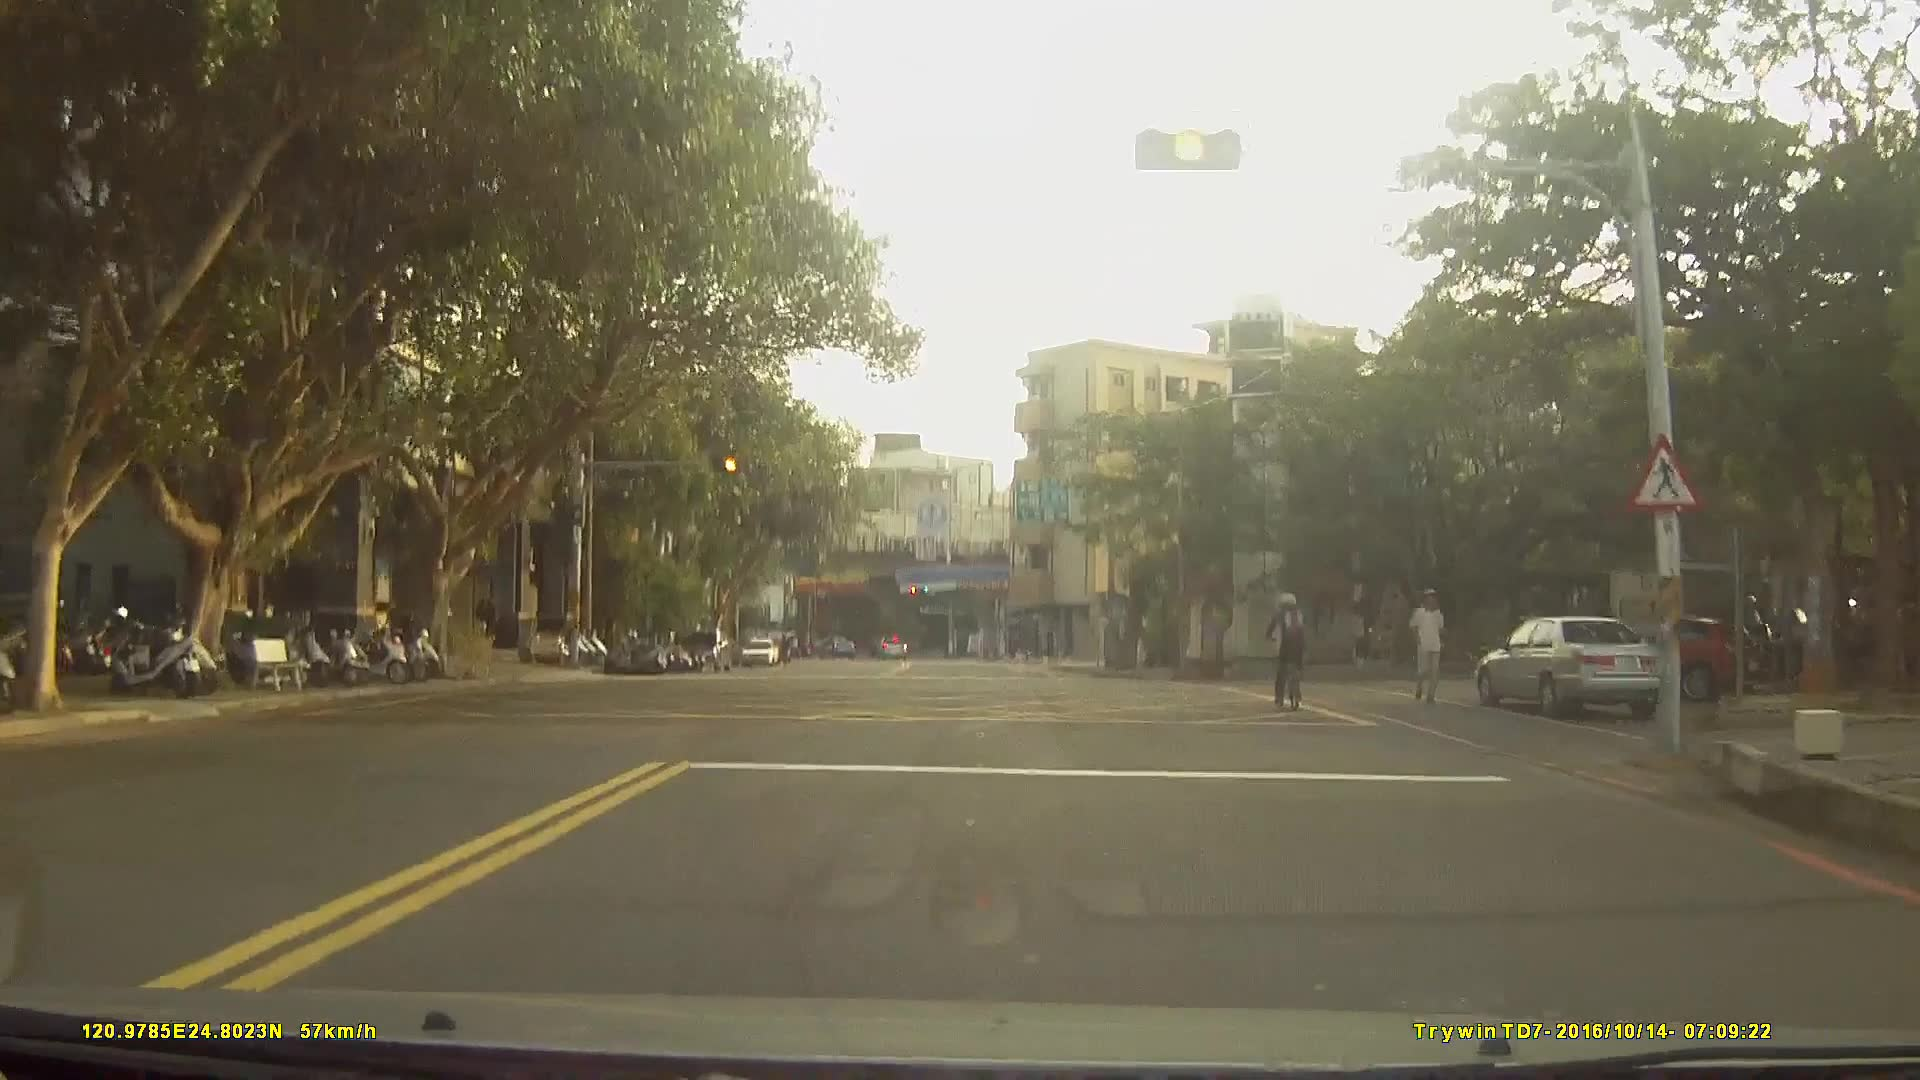pedestrian: (1403, 585, 1456, 696), (471, 597, 492, 648)
rider: (1267, 589, 1315, 705)
vehicle: (1470, 614, 1671, 719), (1607, 614, 1735, 702), (676, 622, 731, 669), (738, 634, 775, 666), (813, 633, 853, 656), (874, 631, 907, 657)
